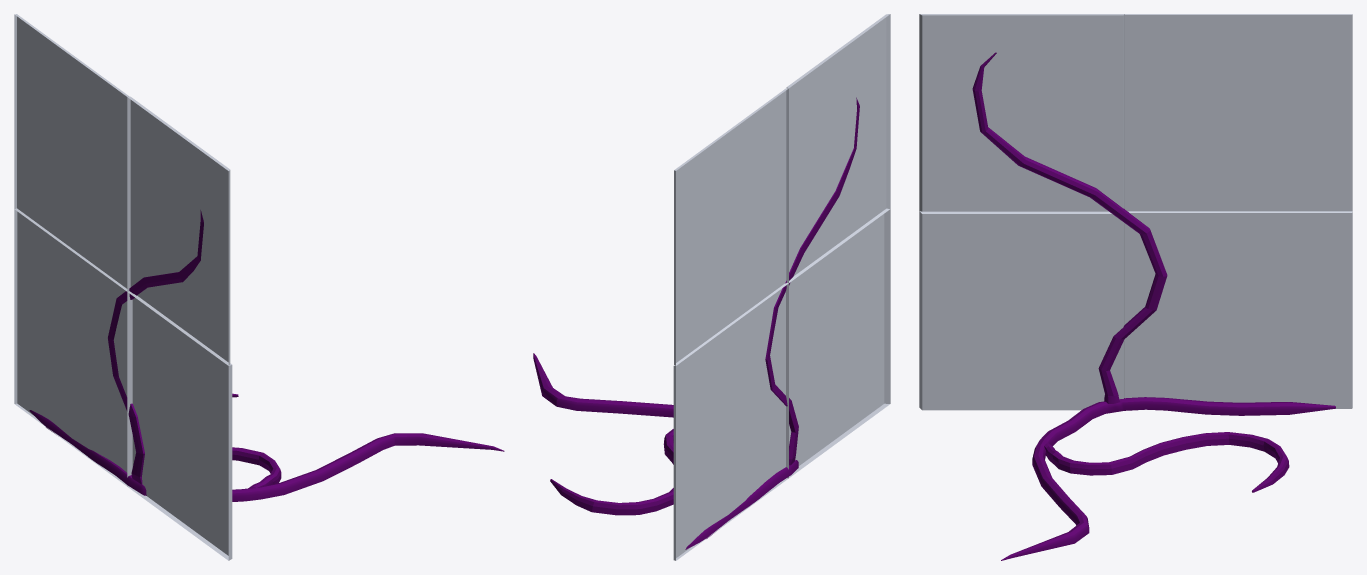
Rendered from Pared_Corrupta_05.fbx.
3 views of the same model, side by side, from view 1: azimuth 30°, elevation 25°; view 2: azimuth 150°, elevation 25°; view 3: azimuth 270°, elevation 25° (orthographic).
Visible parts, largest first — view 1: polySurface57, pCube172; view 2: polySurface57, pCube172; view 3: polySurface57, pCube172.
Part boxes in pixels (x1,y1,x2,y2): polySurface57: (14, 14, 232, 560); pCube172: (29, 210, 504, 501); polySurface57: (673, 14, 890, 560); pCube172: (533, 97, 859, 549); polySurface57: (919, 14, 1352, 410); pCube172: (972, 52, 1335, 560).
Size of the model in its own units: 5.12 by 6.05 by 5.98.
